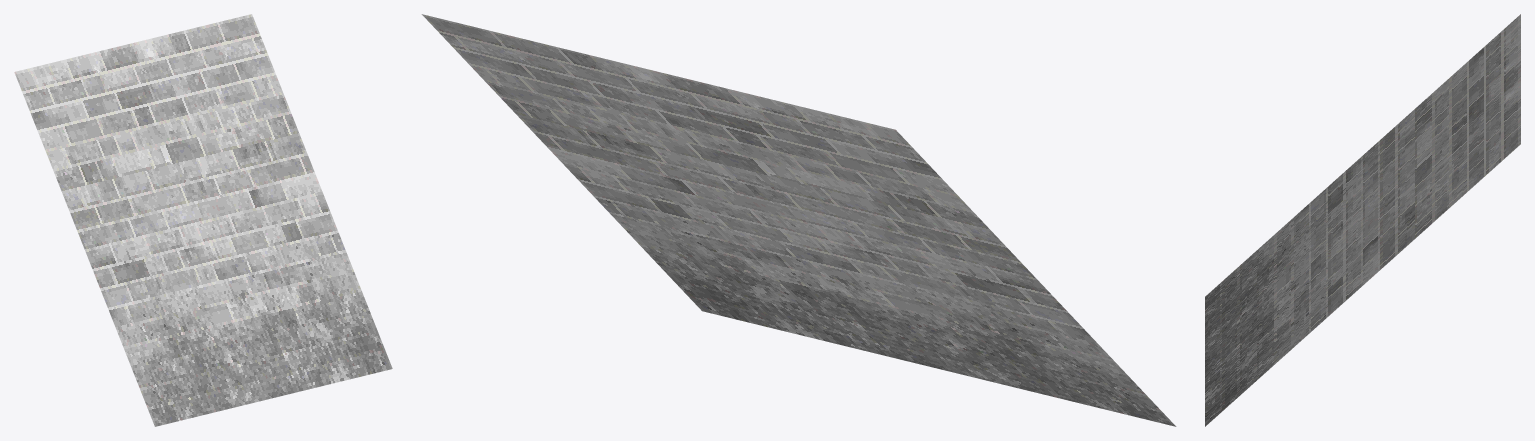
File: wallStairsBrick.glb
The picture shows the model from 3 angles, left to right: view 1: azimuth 30°, elevation 25°; view 2: azimuth 150°, elevation 25°; view 3: azimuth 270°, elevation 25°; orthographic projection. The views are drawn at different scales.
Parts seen in each view (by area): view 1: wallStairsBrick; view 2: wallStairsBrick; view 3: wallStairsBrick.
Part boxes in pixels (x1=…): wallStairsBrick: x1=14, y1=14, x2=392, y2=426; wallStairsBrick: x1=421, y1=14, x2=1176, y2=426; wallStairsBrick: x1=1205, y1=14, x2=1520, y2=426.
Bounding box in the file's own units: 4 × 4.05 × 4.1.
1 material, 1 textured.
